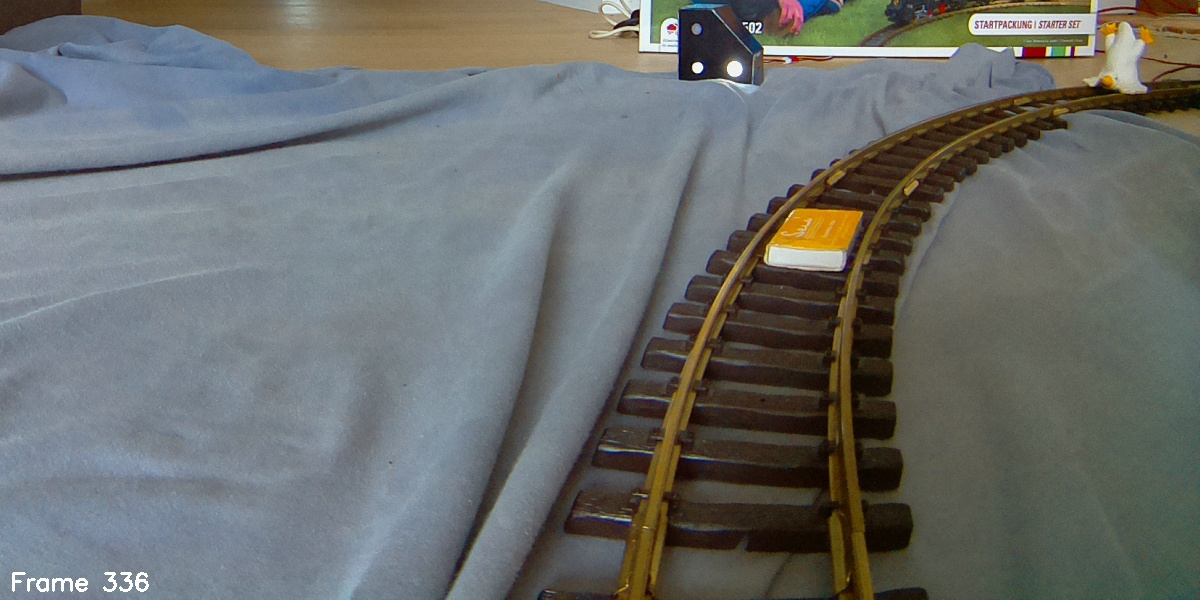Halt: (678, 5, 761, 82)
